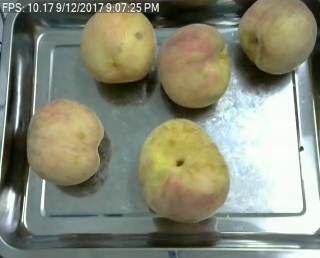Peach: (138, 117, 231, 222), (26, 98, 106, 187), (157, 22, 232, 109), (81, 1, 156, 84), (237, 0, 316, 75)
